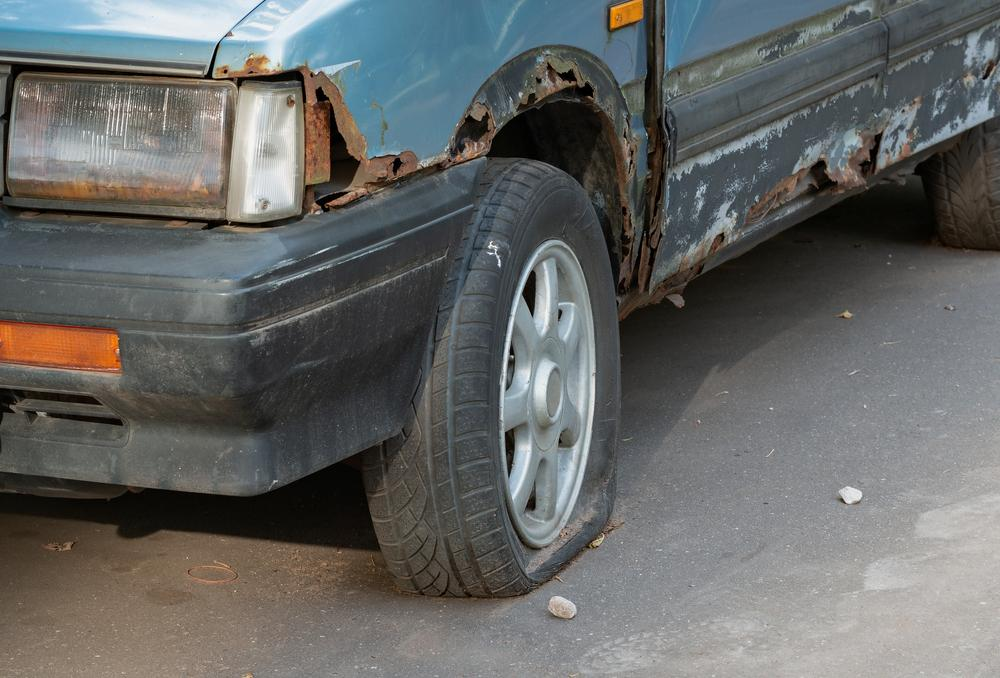crack: (741, 157, 838, 234), (308, 74, 358, 201), (515, 62, 593, 112), (450, 111, 490, 161), (855, 127, 887, 178), (389, 156, 405, 175)
tire flat: (363, 157, 623, 600)
